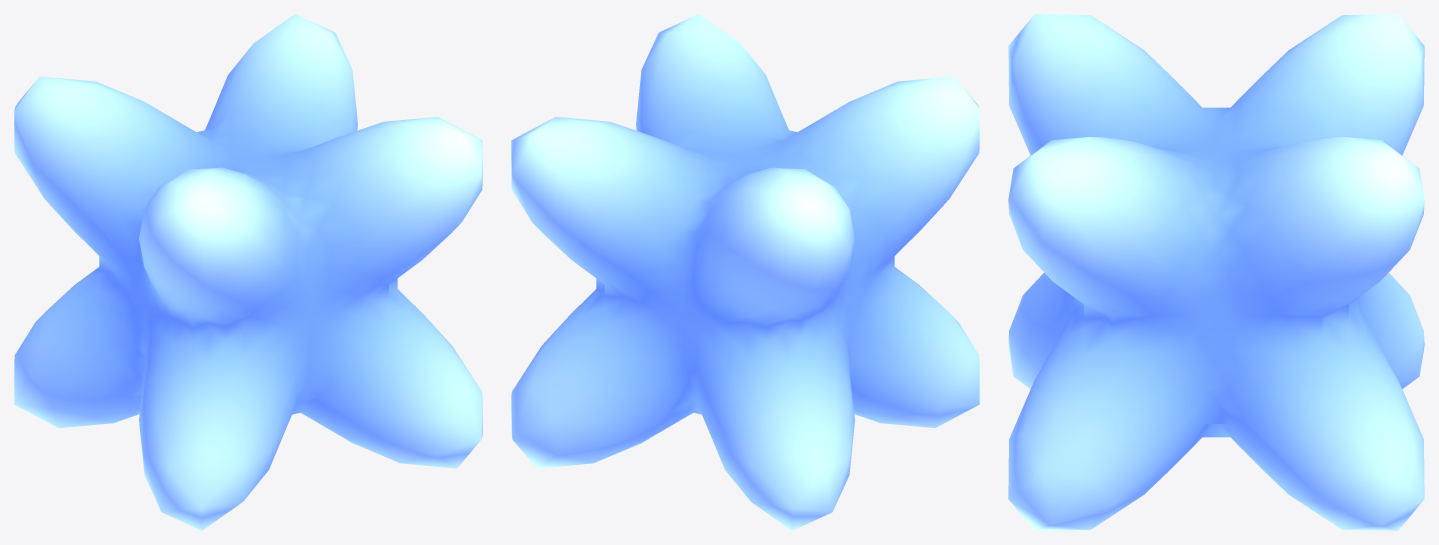
Rendered from night_star.glb.
3 views of the same model, side by side, from view 1: azimuth 30°, elevation 25°; view 2: azimuth 150°, elevation 25°; view 3: azimuth 270°, elevation 25° (orthographic). The views are drawn at different scales.
Visible parts, largest first — view 1: night_star; view 2: night_star; view 3: night_star.
Part boxes in pixels (x1=…): night_star: x1=14, y1=14, x2=482, y2=530; night_star: x1=511, y1=14, x2=979, y2=530; night_star: x1=1008, y1=14, x2=1424, y2=530.
Bounding box in the file's own units: 0.08 × 0.08 × 0.08.
